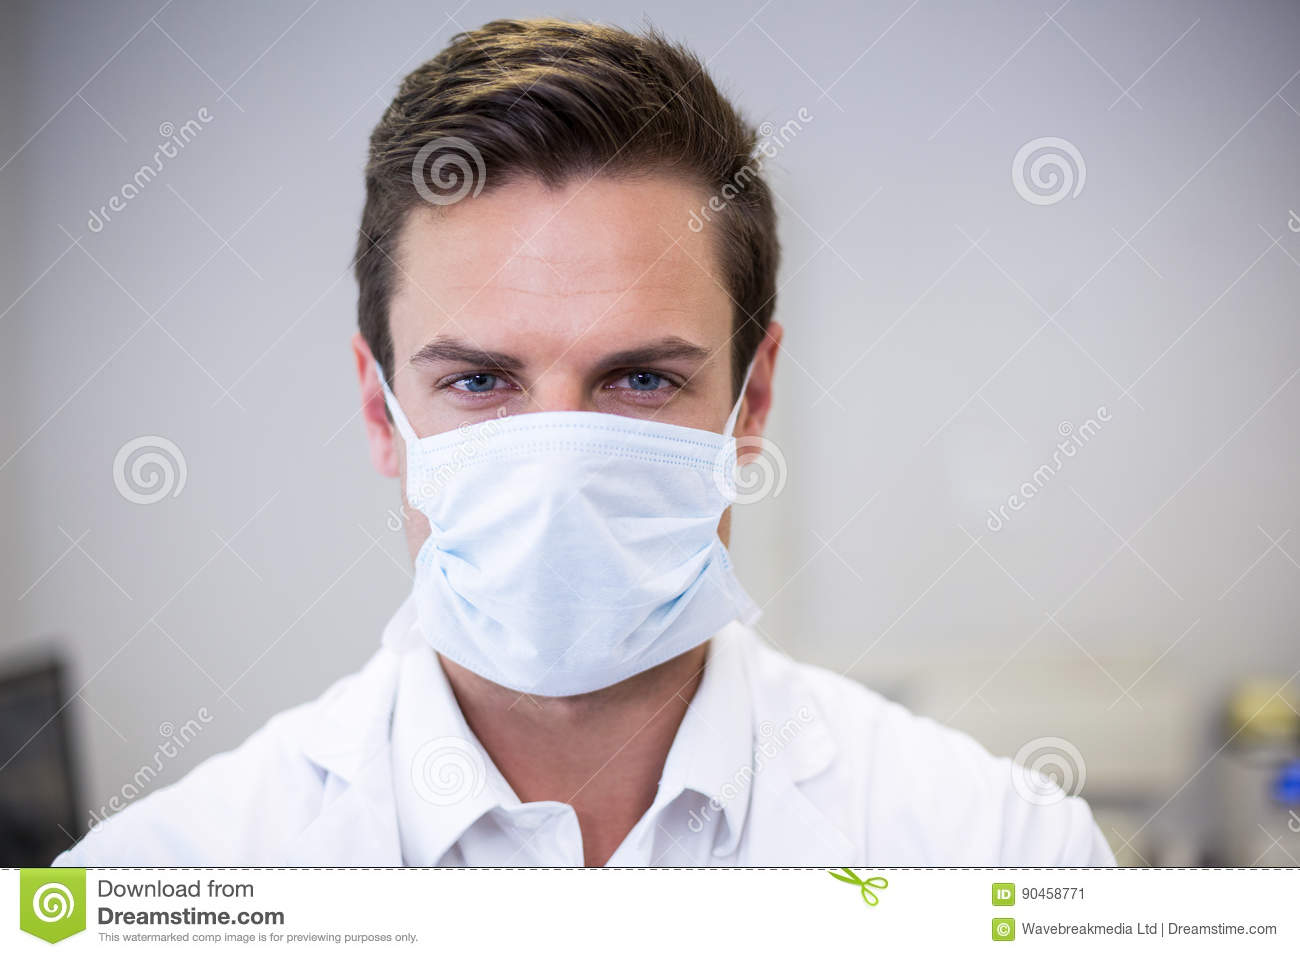mask: (410, 405, 754, 692)
